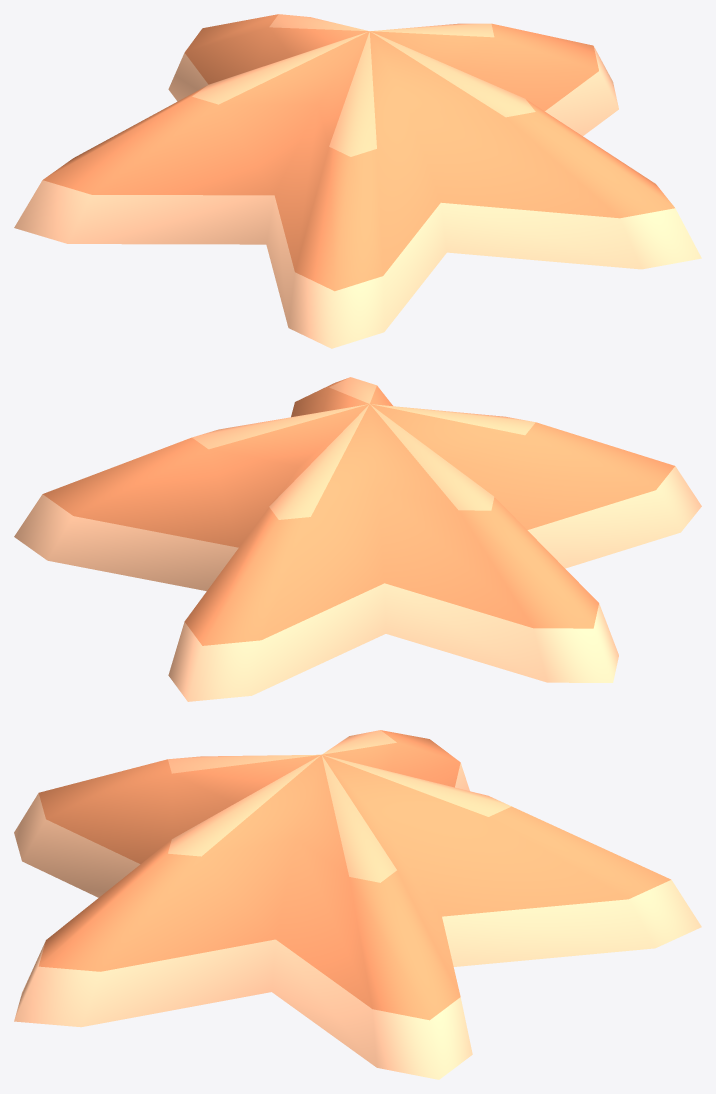
The model's file is starfish.glb.
3 views of the same model, one above another, from view 1: azimuth 30°, elevation 25°; view 2: azimuth 150°, elevation 25°; view 3: azimuth 270°, elevation 25° (orthographic). The views are drawn at different scales.
Parts seen in each view (by area): view 1: starfish; view 2: starfish; view 3: starfish.
Part boxes in pixels (left/top/right/bottom): starfish: left=14, top=14, right=701, bottom=348; starfish: left=14, top=377, right=701, bottom=701; starfish: left=14, top=730, right=701, bottom=1079.
Bounding box in the file's own units: 0.8 × 0.2103 × 0.7608.
